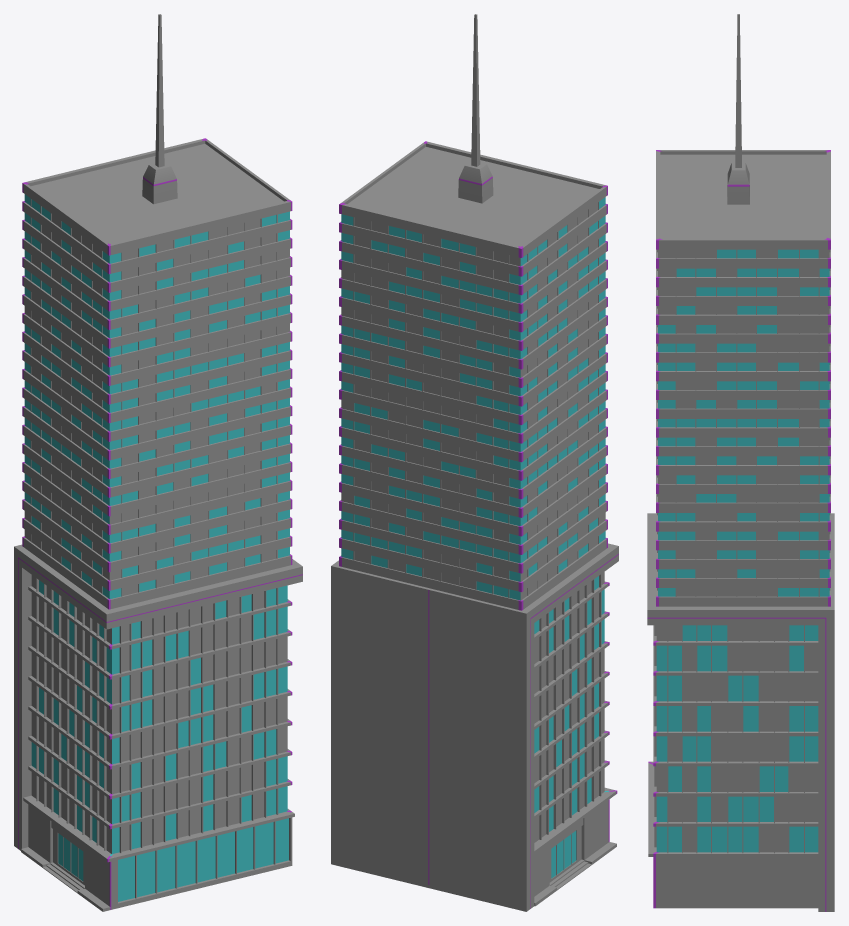
Rendered from BuildingL_01_var2.fbx.
3 views of the same model, side by side, from view 1: azimuth 30°, elevation 25°; view 2: azimuth 150°, elevation 25°; view 3: azimuth 270°, elevation 25° (orthographic).
Parts seen in each view (by area): view 1: BuildingL_01_var2; view 2: BuildingL_01_var2; view 3: BuildingL_01_var2.
Boxes of the visible parts, x1,y1,x2,y2 form: BuildingL_01_var2: [14, 14, 302, 911]; BuildingL_01_var2: [331, 14, 618, 911]; BuildingL_01_var2: [647, 14, 834, 911].
Bounding box in the file's own units: 0.484 × 1.97 × 0.3943.
